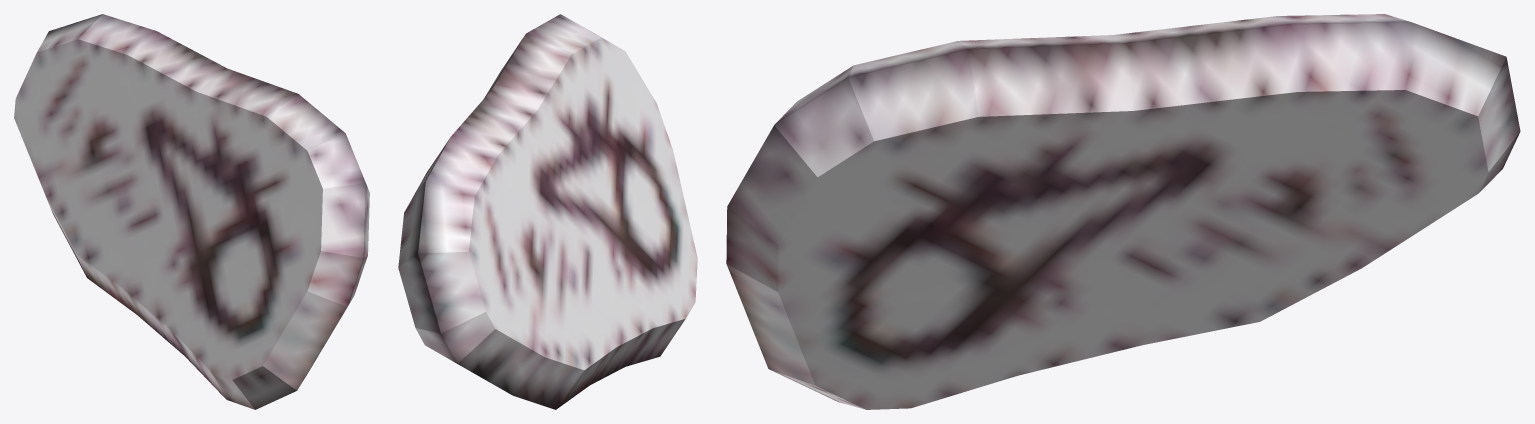
The model's file is Steak.fbx.
The picture shows the model from 3 angles, left to right: view 1: azimuth 30°, elevation 25°; view 2: azimuth 150°, elevation 25°; view 3: azimuth 270°, elevation 25°; orthographic projection. The views are drawn at different scales.
Parts seen in each view (by area): view 1: Steak; view 2: Steak; view 3: Steak.
Part boxes in pixels (x1,y1,x2,y2): Steak: [14, 14, 369, 409]; Steak: [398, 14, 697, 409]; Steak: [726, 14, 1520, 409].
Bounding box in the file's own units: 21.15 × 33.49 × 57.15.
Materials: 1 (1 with a texture image).
